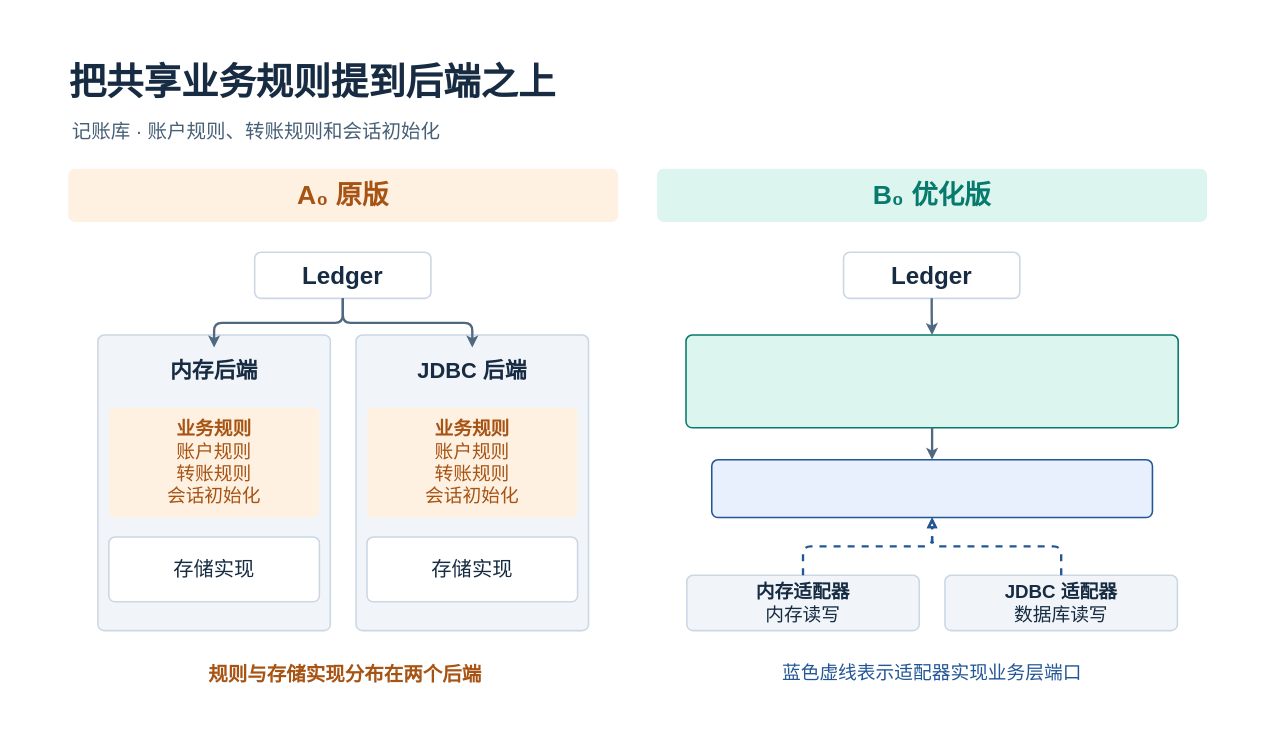
This 1275x729 diagram has some shape labels left out. Each missing label, with the box of its shape:
业务层端口 AccountStore · TransferStore: (711, 459, 1153, 518)
共享业务规则 账户规则 · 转账规则 · 会话初始化: (685, 334, 1179, 428)
